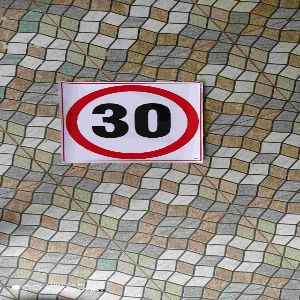speedlimit30: (61, 84, 202, 163)
